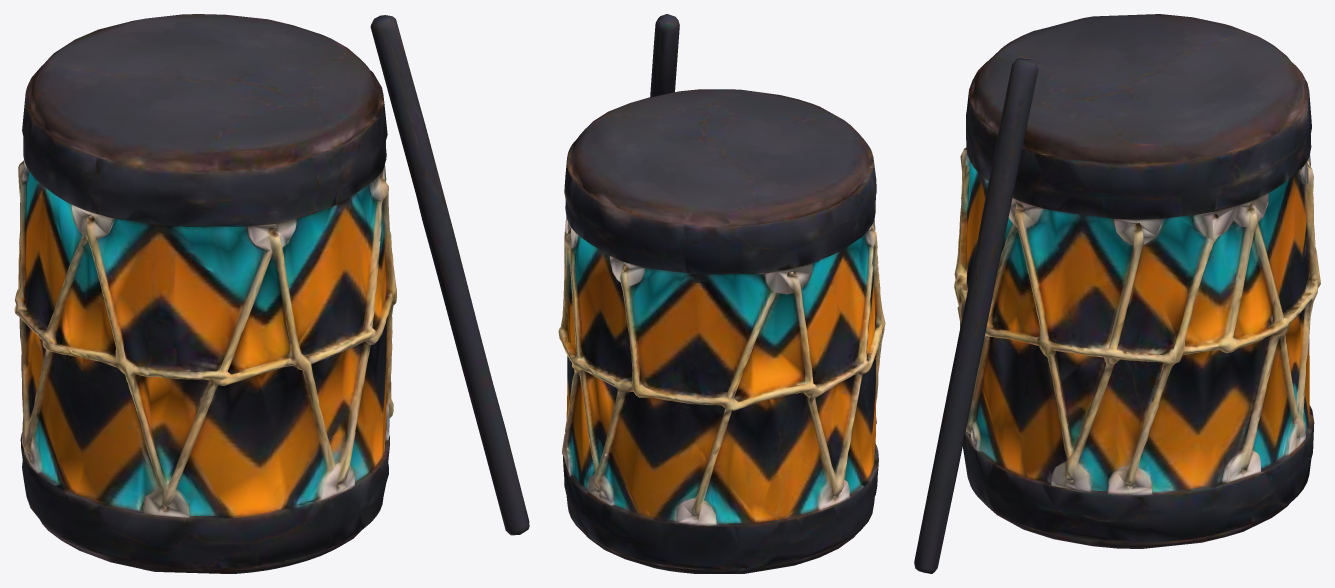
Rendered from modelo.glb.
3 views of the same model, side by side, from view 1: azimuth 30°, elevation 25°; view 2: azimuth 150°, elevation 25°; view 3: azimuth 270°, elevation 25° (orthographic). The views are drawn at different scales.
Visible parts, largest first — view 1: node_0; view 2: node_0; view 3: node_0.
Part boxes in pixels (x1=…): node_0: x1=14, y1=14, x2=529, y2=573; node_0: x1=558, y1=14, x2=885, y2=573; node_0: x1=914, y1=14, x2=1320, y2=573.
Bounding box in the file's own units: 0.6526 × 0.8299 × 0.6376.
Materials: 1 (1 with a texture image).
